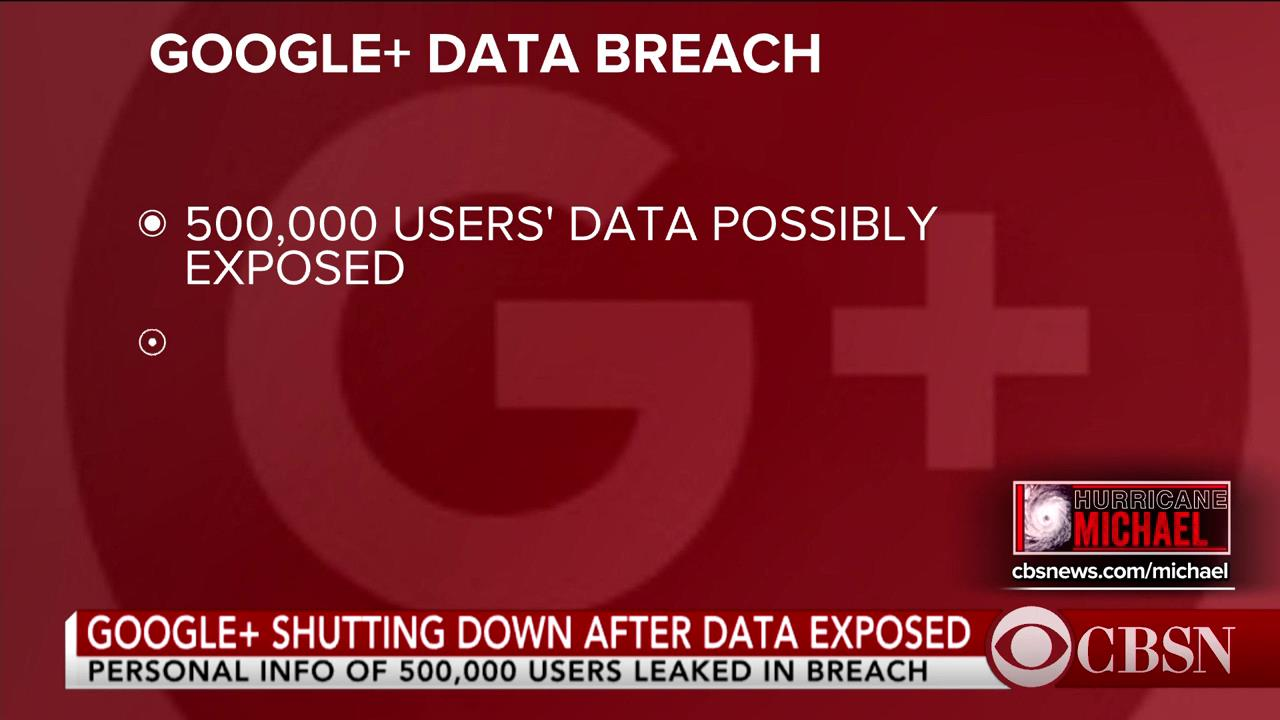500,000 USERS' DATA POSSIBLY: (183, 201, 943, 246)
CBSN: (1076, 620, 1239, 677)
EXPOSED: (183, 247, 410, 287)
GOOGLE+ DATA BREACH: (148, 28, 822, 76)
GOOGLE+ SHUTTING DOWN AFTER DATA EXPOSED: (84, 611, 976, 654)
HURRICANE: (1074, 487, 1225, 508)
MICHAEL: (1072, 509, 1205, 546)
PERSONAL INFO OF 500,000 USERS LEAKED IN BREACH: (83, 653, 931, 683)
cbsnews.com/michael: (1006, 558, 1231, 584)
